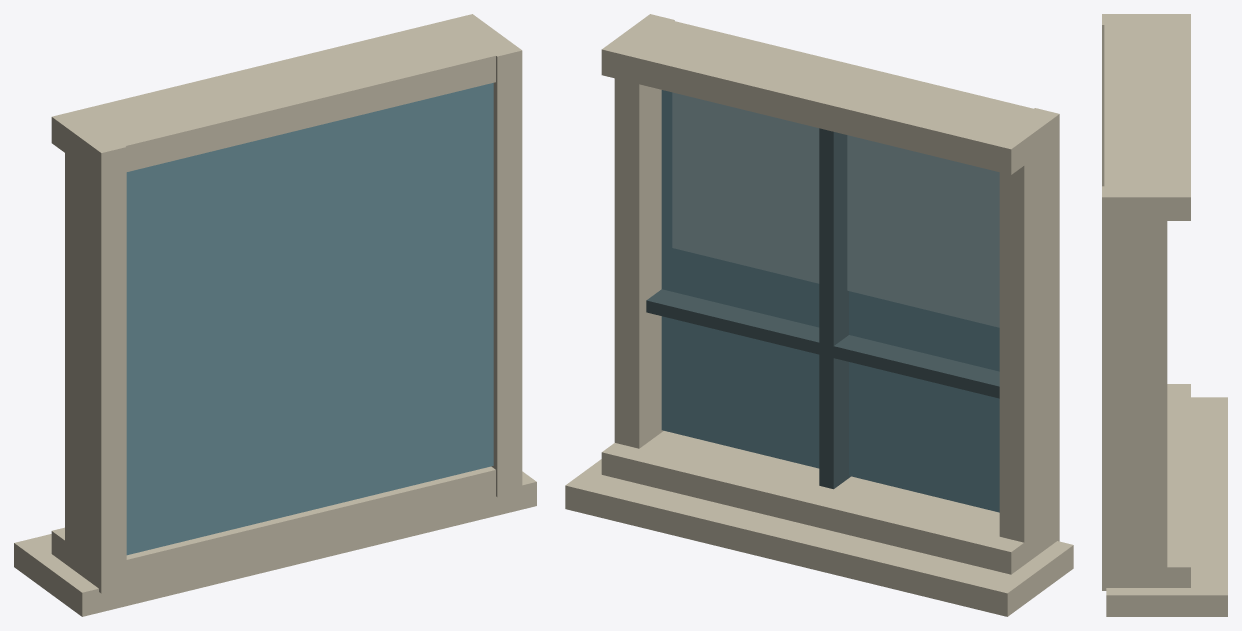
The model's file is facade-window.glb.
3 renders of one model, left to right at view 1: azimuth 30°, elevation 25°; view 2: azimuth 150°, elevation 25°; view 3: azimuth 270°, elevation 25°, orthographic. The views are drawn at different scales.
Parts seen in each view (by area): view 1: CITY_facade_window; view 2: CITY_facade_window; view 3: CITY_facade_window.
Part boxes in pixels (bbox=[...]): CITY_facade_window: bbox=[14, 14, 536, 616]; CITY_facade_window: bbox=[565, 14, 1073, 616]; CITY_facade_window: bbox=[1102, 14, 1227, 616].
Bounding box in the file's own units: 1.08 × 1.05 × 0.29.
